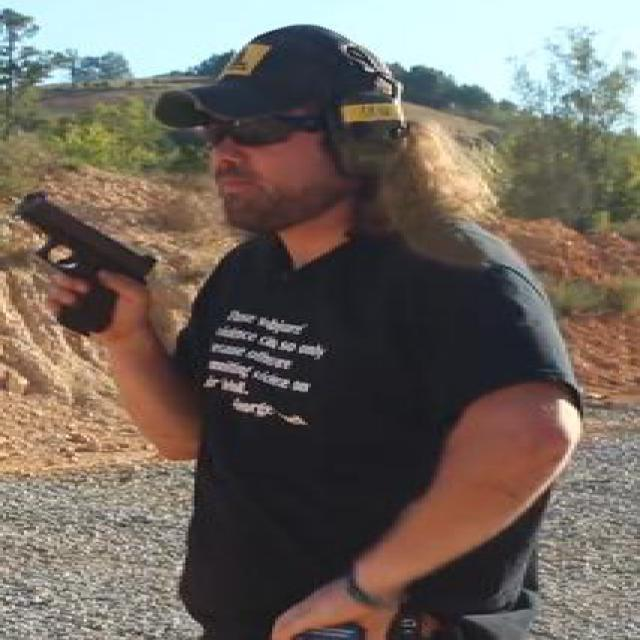Gun: (8, 188, 156, 334)
